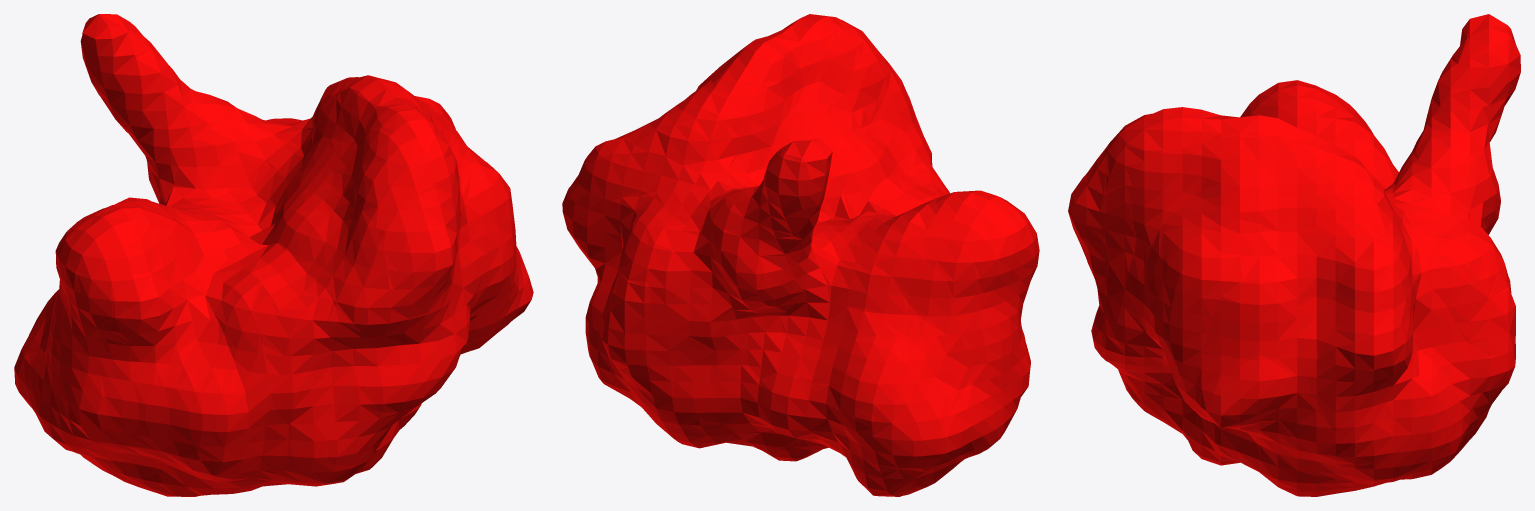
Rendered from alaA_coarse.dae.
3 views of the same model, side by side, from view 1: azimuth 30°, elevation 25°; view 2: azimuth 150°, elevation 25°; view 3: azimuth 270°, elevation 25° (orthographic). The views are drawn at different scales.
Parts seen in each view (by area): view 1: alaA; view 2: alaA; view 3: alaA.
Boxes of the visible parts, <box> form: alaA: <box>14,14,533,496</box>; alaA: <box>562,14,1039,496</box>; alaA: <box>1068,14,1520,496</box>.
Size of the model in its own units: 65.61 by 56.35 by 57.26.
